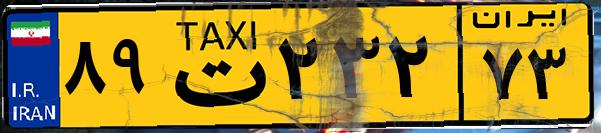2: (270, 28, 330, 110), (385, 28, 445, 110)
3: (330, 28, 385, 110), (525, 38, 570, 115)
7: (475, 38, 525, 113)
8: (57, 26, 110, 100)
9: (110, 28, 158, 98)
ت: (158, 12, 270, 120)
